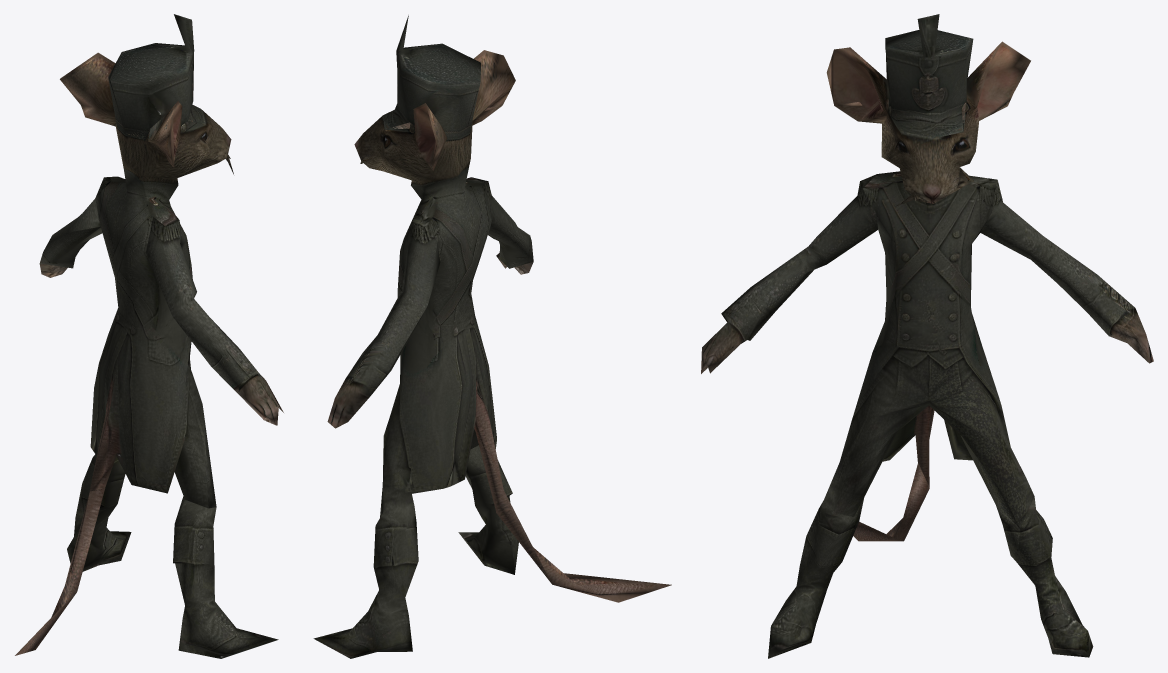
File: infantry_spd_gibs.glb
3 renders of one model, left to right at view 1: azimuth 30°, elevation 25°; view 2: azimuth 150°, elevation 25°; view 3: azimuth 270°, elevation 25°, orthographic. The views are drawn at different scales.
Visible parts, largest first — view 1: body, armL, hat, legL, legR, tail, armR; view 2: body, legR, armR, hat, legL, tail, armL; view 3: body, hat, armL, armR, legL, legR, tail.
Part boxes in pixels (box(x1,y1,x2,y2)): body: box(60, 52, 233, 508); armL: box(145, 217, 283, 425); hat: box(108, 14, 206, 141); legL: box(173, 496, 278, 658); legR: box(67, 454, 131, 571); tail: box(15, 488, 105, 655); armR: box(39, 198, 102, 277); body: box(354, 50, 515, 517); legR: box(313, 506, 418, 658); armR: box(327, 222, 440, 428); hat: box(383, 15, 480, 139); legL: box(458, 445, 518, 574); tail: box(496, 489, 671, 602); armL: box(472, 177, 533, 274); body: box(824, 41, 1034, 528); hat: box(885, 14, 973, 137); armL: box(701, 174, 877, 373); armR: box(980, 180, 1153, 363); legL: box(768, 497, 864, 658); legR: box(996, 496, 1093, 657); tail: box(853, 463, 929, 541).
Bounding box in the file's own units: 0.4689 × 0.9763 × 0.6256.
Materials: 1 (1 with a texture image).
